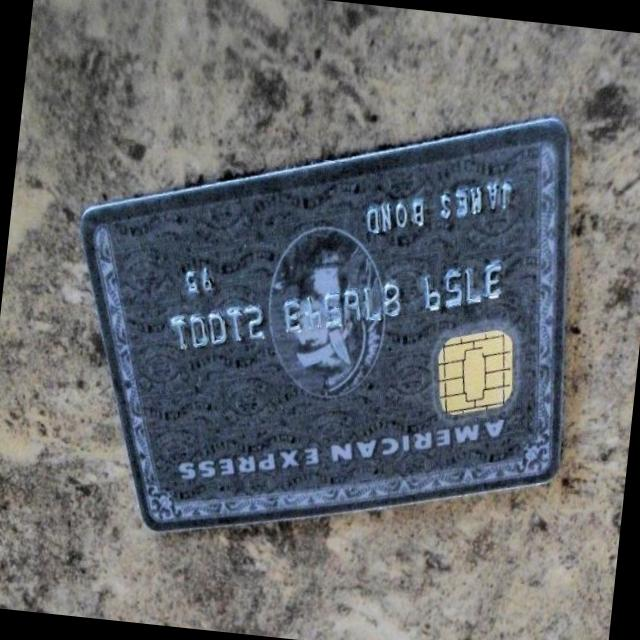card: (74, 107, 568, 533)
